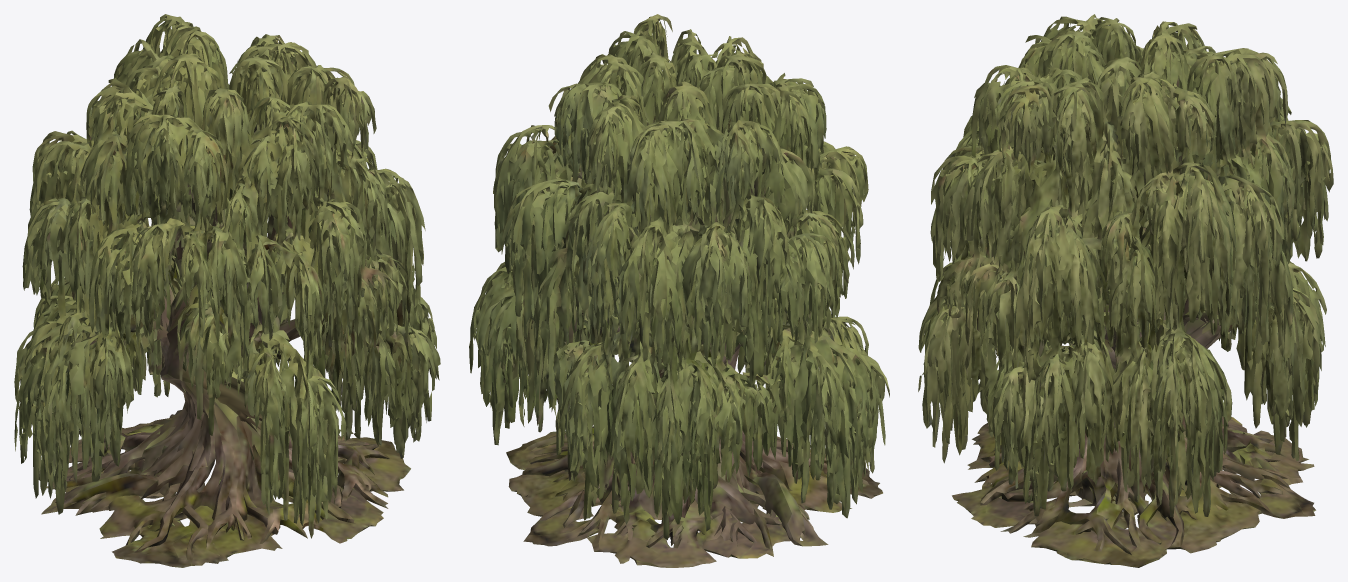
Rendered from WillowDeepGreen_01.fbx.
3 renders of one model, left to right at view 1: azimuth 30°, elevation 25°; view 2: azimuth 150°, elevation 25°; view 3: azimuth 270°, elevation 25°, orthographic. The views are drawn at different scales.
Visible parts, largest first — view 1: geometry_0; view 2: geometry_0; view 3: geometry_0.
Boxes of the visible parts, x1,y1,x2,y2 form: geometry_0: (14,14,440,567); geometry_0: (469,14,889,567); geometry_0: (918,14,1333,567).
Size of the model in its own units: 1114 by 1200 by 1036.
